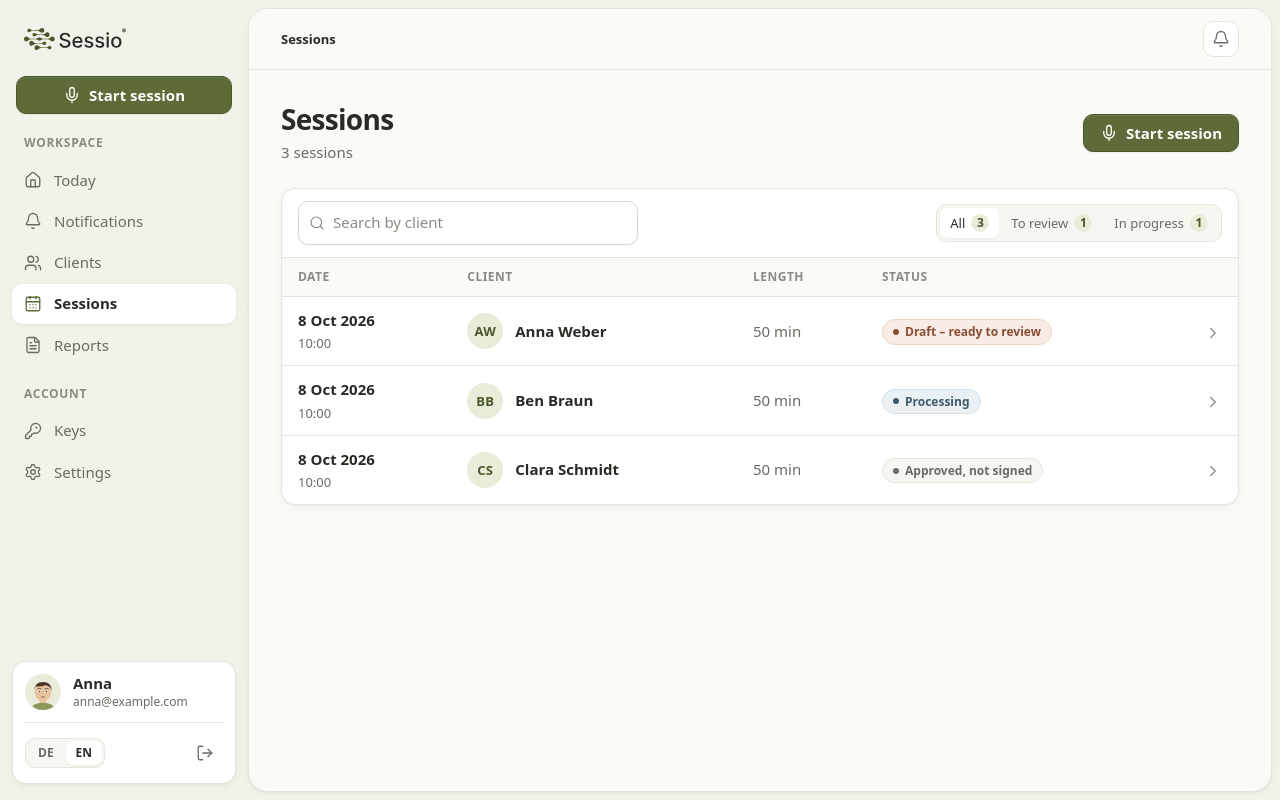
Test case: sessions page › lists sessions with status and filters them
Expected: the text "Draft – ready to review" is shown, [882,319,1052,345]
Expected: the text "3 sessions" is shown, [281,142,353,162]
Click the button "To review 1" at (1052, 223), box [1001,208,1102,238]
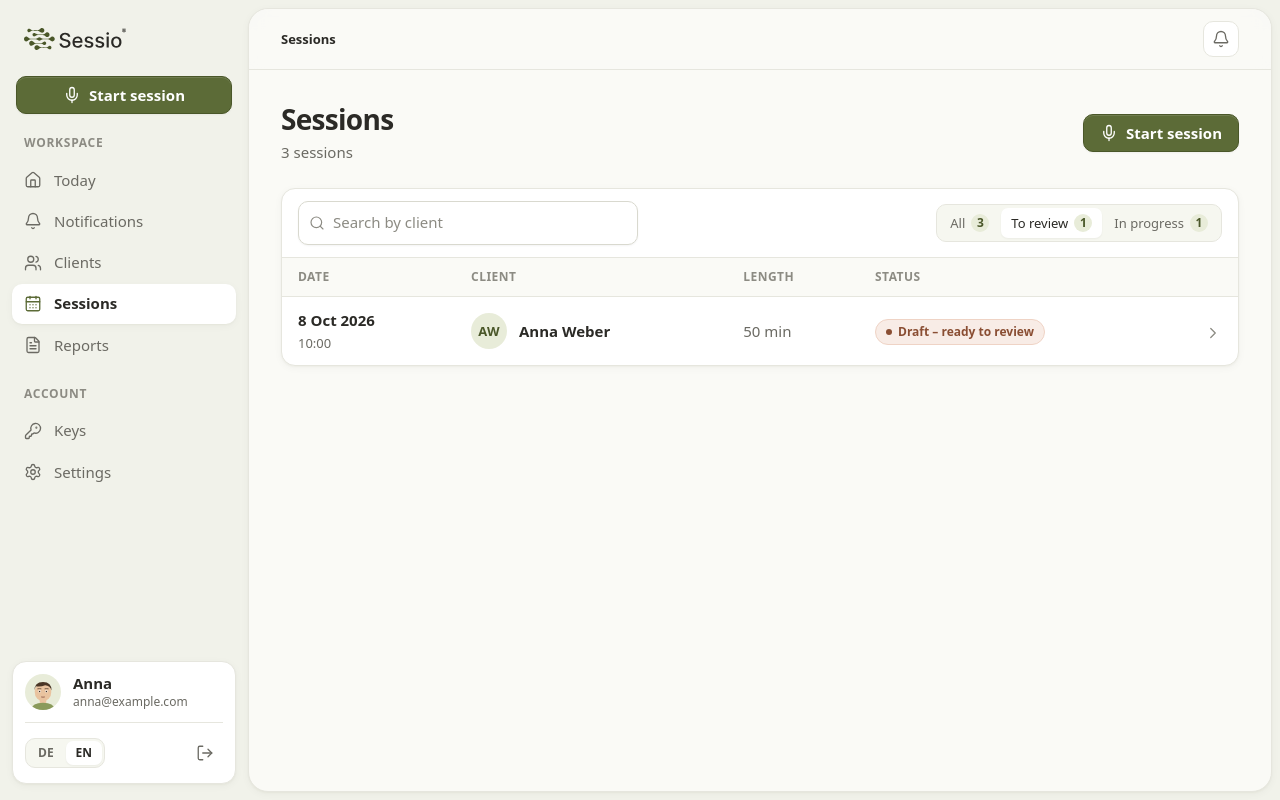
Expected: the link "Anna Weber" is shown, [519,320,610,343]
Now the link "Ben Braun" is gone
Click the button "In progress 1" at (1161, 223), box [1104,208,1218,238]
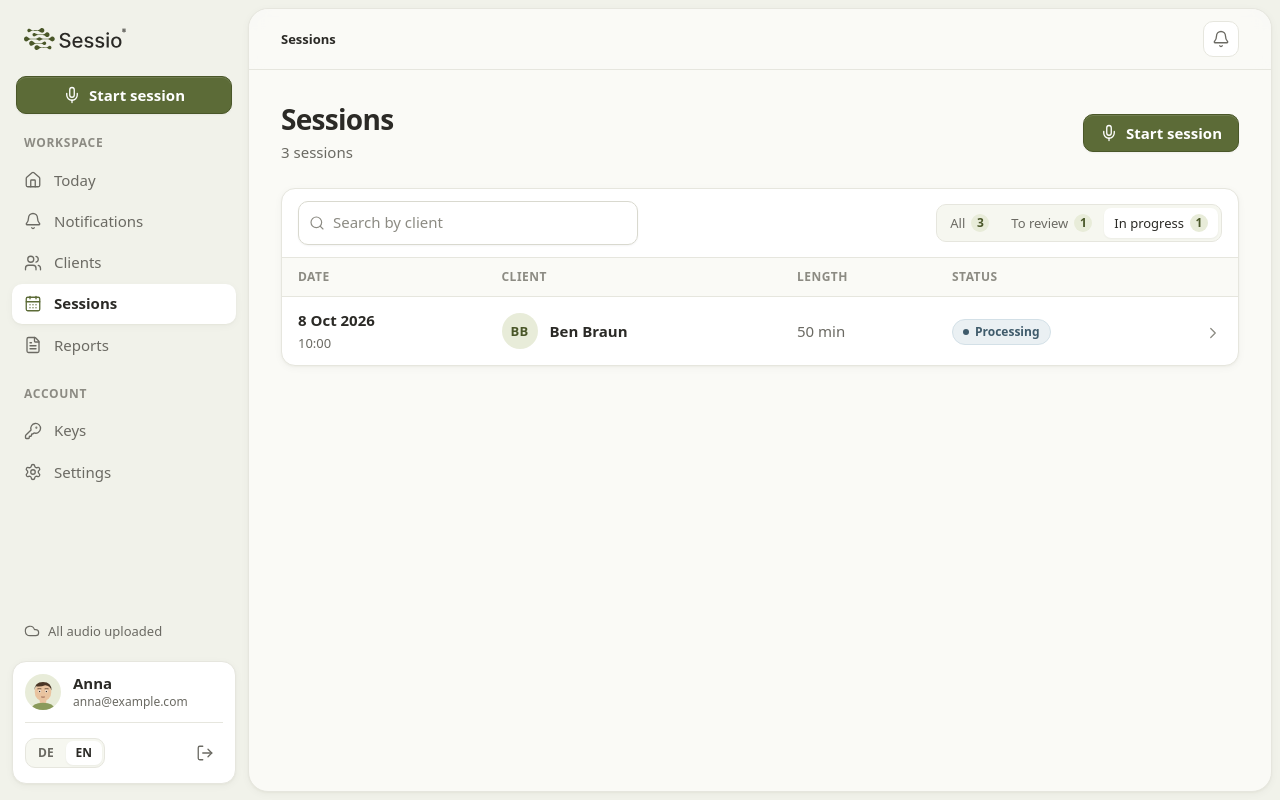
Expected: the link "Clara Schmidt" is not shown
Now the link "Ben Braun" is shown, box [550,320,628,343]
